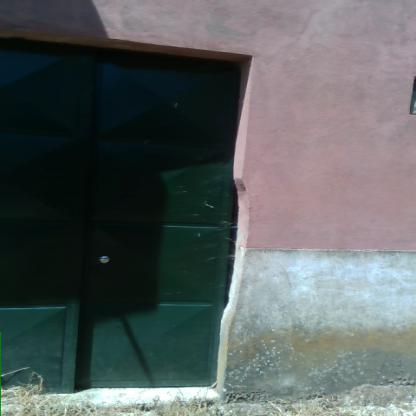closed: (0, 23, 261, 408)
